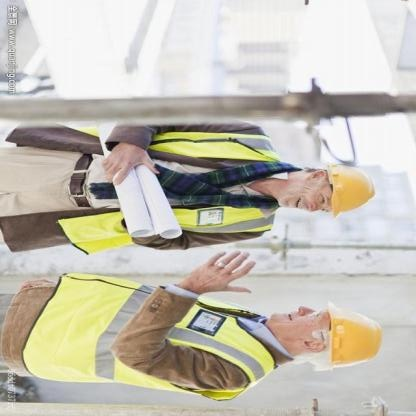vest: (23, 271, 282, 402), (60, 124, 284, 256)
yellow: (315, 298, 388, 374), (322, 158, 380, 223)
